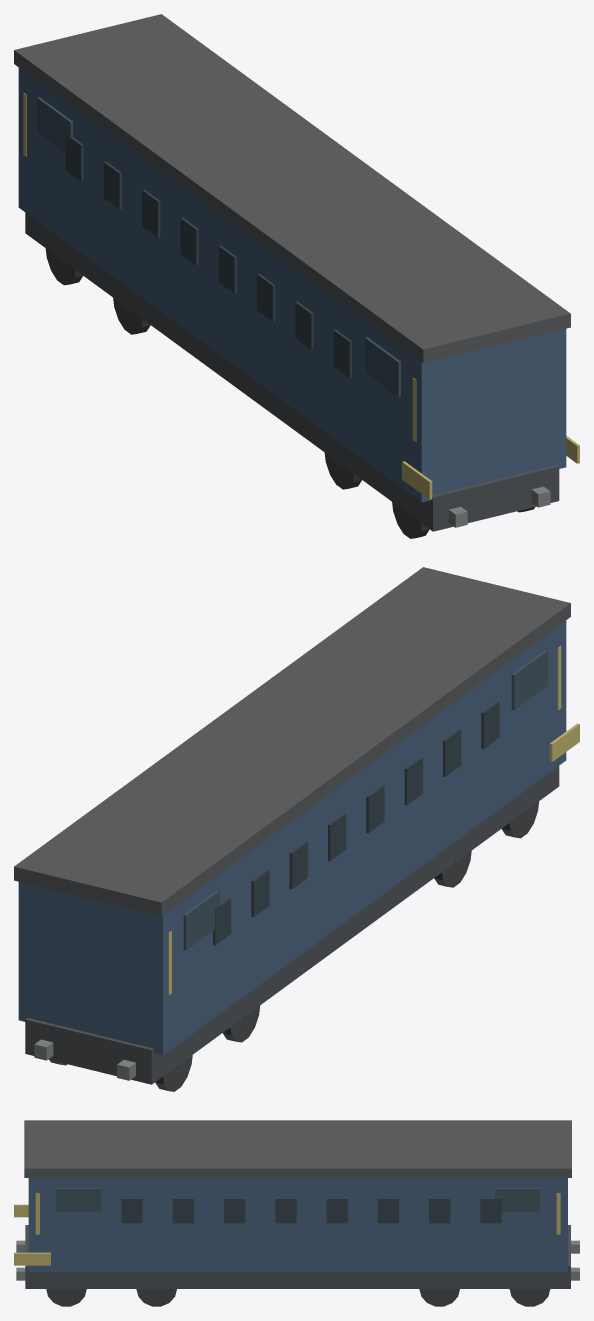
File: br_class24_blue.glb
3 renders of one model, top to bottom at view 1: azimuth 30°, elevation 25°; view 2: azimuth 150°, elevation 25°; view 3: azimuth 270°, elevation 25°, orthographic. The views are drawn at different scales.
Parts seen in each view (by area): view 1: diesel_body, roof, underframe, front_side_window_L, rear_side_window_L, grille_L_1, grille_L_2, grille_L_3, grille_L_4, grille_L_5, grille_L_6, grille_L_7 (+5 smaller); view 2: diesel_body, roof, underframe, front_side_window_L, rear_side_window_L, grille_L_1, grille_L_3, grille_L_5, grille_L_2, grille_L_4, grille_L_6, grille_L_7 (+5 smaller); view 3: diesel_body, roof, underframe, front_side_window_R, rear_side_window_R, wheel_diesel_R_1_1, wheel_diesel_R_0_1, wheel_diesel_R_1_0, wheel_diesel_R_0_0, grille_R_4, grille_R_7, grille_R_1 (+6 smaller).
Boxes of the visible parts, bbox=[...] form: diesel_body: bbox=[18, 67, 566, 502]; roof: bbox=[14, 14, 570, 363]; underframe: bbox=[25, 212, 559, 531]; front_side_window_L: bbox=[365, 337, 400, 397]; rear_side_window_L: bbox=[37, 97, 72, 152]; grille_L_1: bbox=[103, 161, 121, 209]; grille_L_2: bbox=[142, 189, 160, 237]; grille_L_3: bbox=[180, 217, 198, 265]; grille_L_4: bbox=[218, 245, 236, 293]; grille_L_5: bbox=[257, 273, 275, 321]; grille_L_6: bbox=[295, 301, 313, 349]; grille_L_7: bbox=[333, 329, 351, 377]; diesel_body: bbox=[18, 620, 566, 1055]; roof: bbox=[14, 567, 570, 916]; underframe: bbox=[25, 766, 559, 1084]; front_side_window_L: bbox=[511, 650, 547, 710]; rear_side_window_L: bbox=[183, 890, 219, 950]; grille_L_1: bbox=[251, 869, 269, 917]; grille_L_3: bbox=[328, 813, 346, 861]; grille_L_5: bbox=[404, 757, 422, 805]; grille_L_2: bbox=[289, 841, 307, 889]; grille_L_4: bbox=[366, 785, 384, 833]; grille_L_6: bbox=[443, 729, 461, 776]; grille_L_7: bbox=[481, 701, 499, 748]; diesel_body: bbox=[28, 1178, 567, 1272]; roof: bbox=[24, 1120, 571, 1177]; underframe: bbox=[25, 1225, 570, 1288]; front_side_window_R: bbox=[56, 1188, 101, 1212]; rear_side_window_R: bbox=[495, 1188, 540, 1212]; wheel_diesel_R_1_1: bbox=[46, 1289, 86, 1306]; wheel_diesel_R_0_1: bbox=[419, 1289, 459, 1306]; wheel_diesel_R_1_0: bbox=[136, 1289, 176, 1306]; wheel_diesel_R_0_0: bbox=[509, 1289, 550, 1306]; grille_R_4: bbox=[275, 1198, 296, 1223]; grille_R_7: bbox=[121, 1198, 142, 1223]; grille_R_1: bbox=[429, 1198, 450, 1223].
Bounding box in the file's own units: 2.83 × 3.84 × 13.8.
